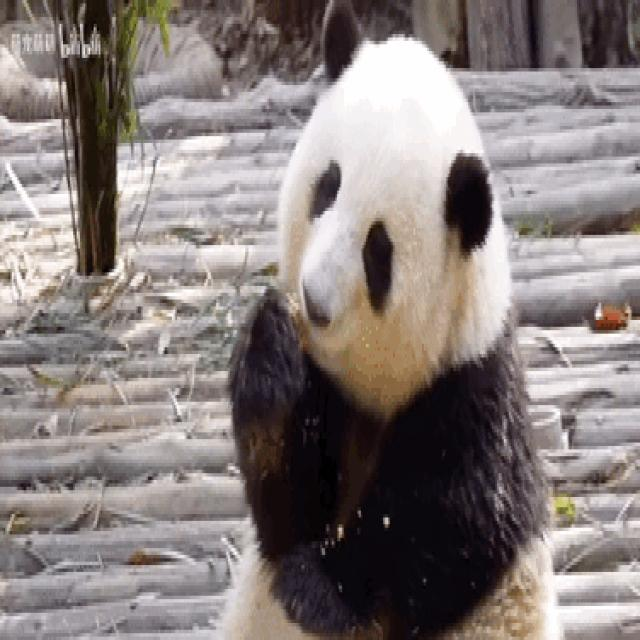panda: (215, 8, 577, 638)
